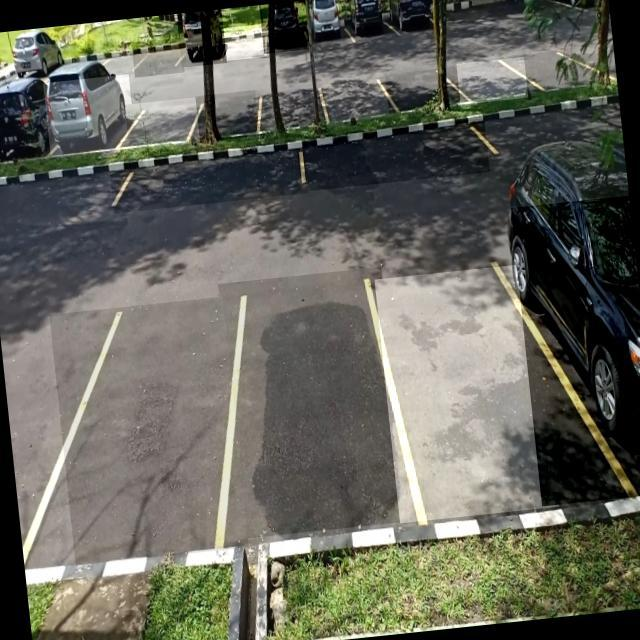empty: (49, 296, 248, 564), (218, 266, 408, 538), (374, 262, 559, 523), (108, 140, 309, 213), (297, 118, 490, 192), (124, 96, 200, 150), (254, 82, 326, 134), (385, 66, 461, 114), (319, 77, 394, 124), (195, 90, 262, 142), (456, 56, 528, 104), (132, 37, 184, 77), (218, 23, 269, 61)
occupied: (510, 195, 640, 506), (43, 74, 136, 156), (176, 9, 227, 67), (258, 0, 309, 53)
